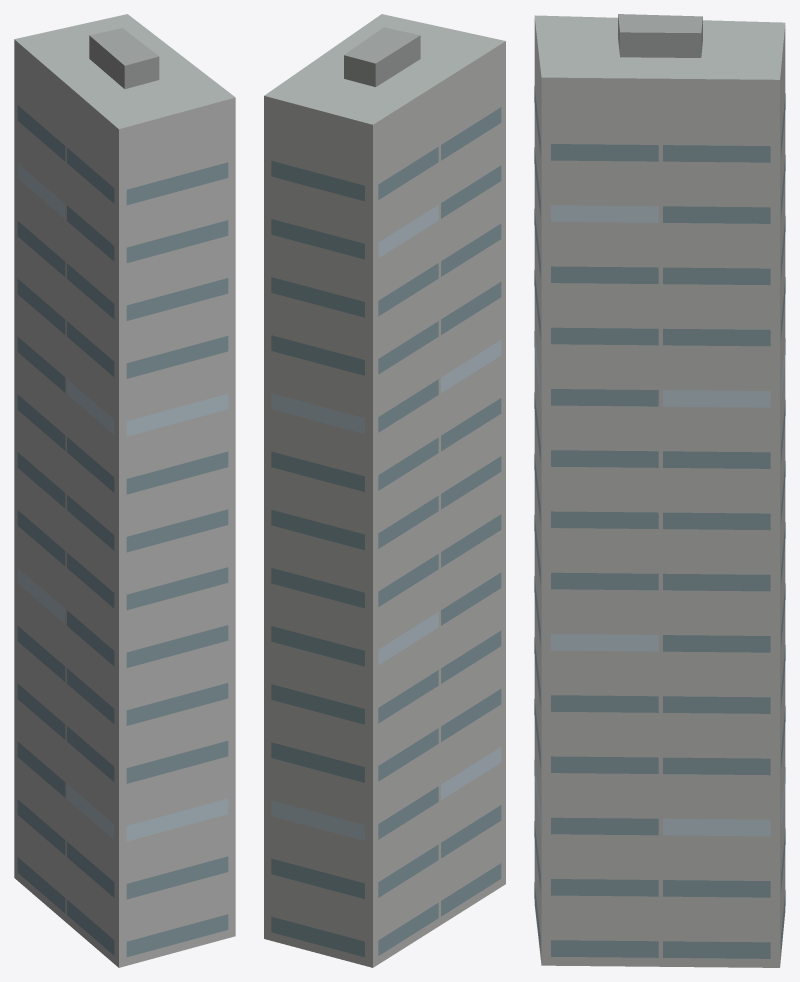
Rendered from fallback-jamsil-ricenz-229.glb.
The picture shows the model from 3 angles, left to right: view 1: azimuth 30°, elevation 25°; view 2: azimuth 150°, elevation 25°; view 3: azimuth 270°, elevation 25°; orthographic projection. The views are drawn at different scales.
Parts seen in each view (by area): view 1: fallback-jamsil-ricenz-229; view 2: fallback-jamsil-ricenz-229; view 3: fallback-jamsil-ricenz-229.
Boxes of the visible parts, x1,y1,x2,y2 form: fallback-jamsil-ricenz-229: [14, 14, 235, 967]; fallback-jamsil-ricenz-229: [264, 14, 505, 967]; fallback-jamsil-ricenz-229: [534, 14, 785, 967].
Size of the model in its own units: 13.34 by 88 by 21.94.
